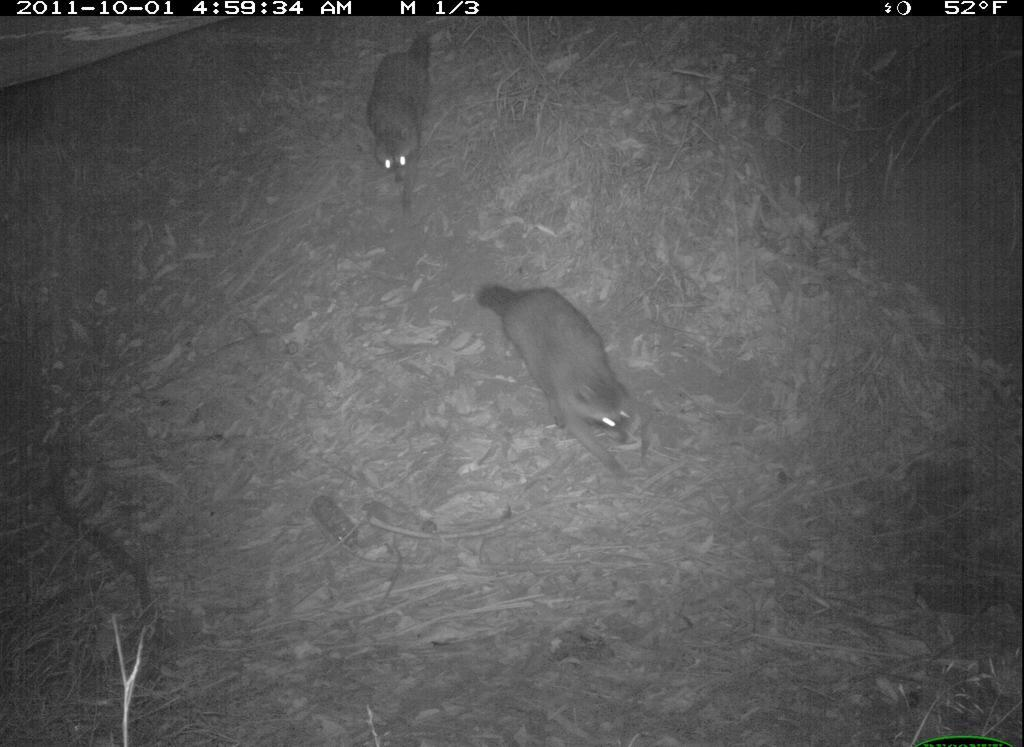raccoon: (466, 272, 669, 487), (358, 27, 450, 223)
